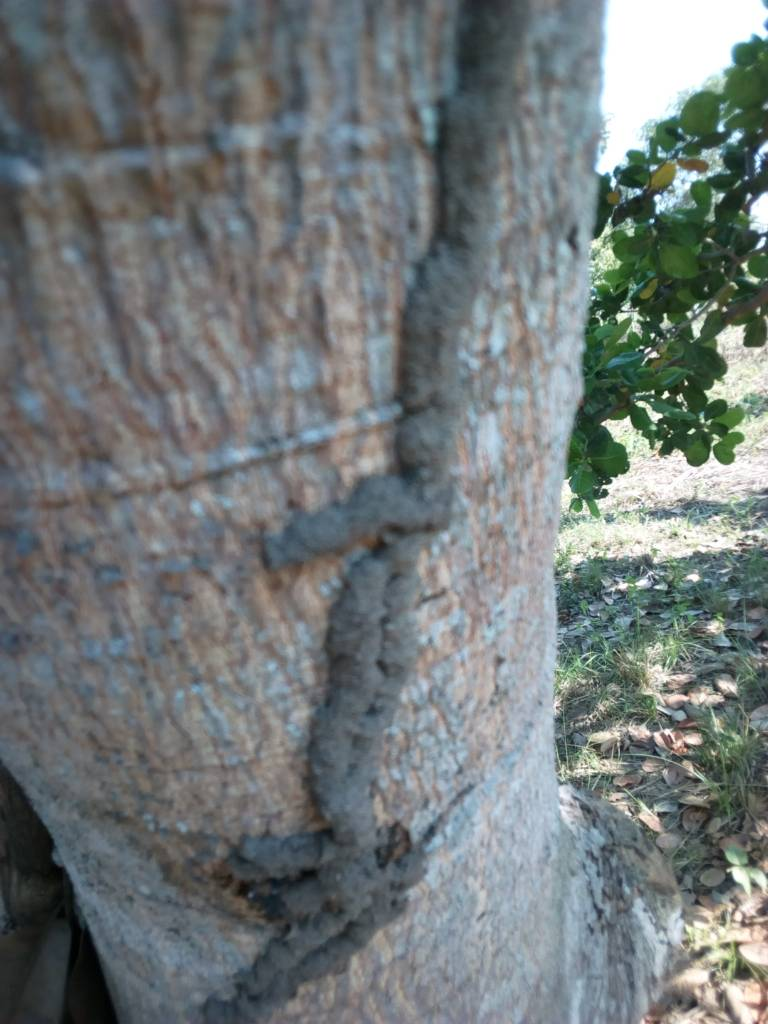Termites: (218, 91, 535, 1024)
